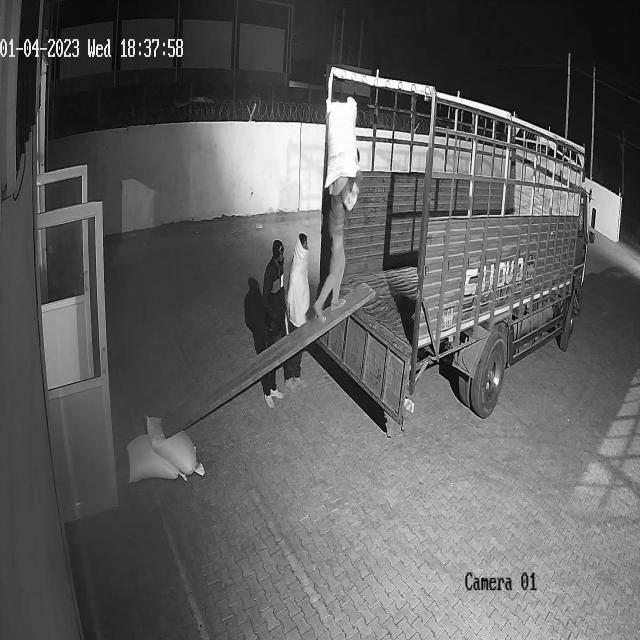sack: (145, 412, 199, 476), (325, 98, 357, 193), (127, 432, 182, 482)
